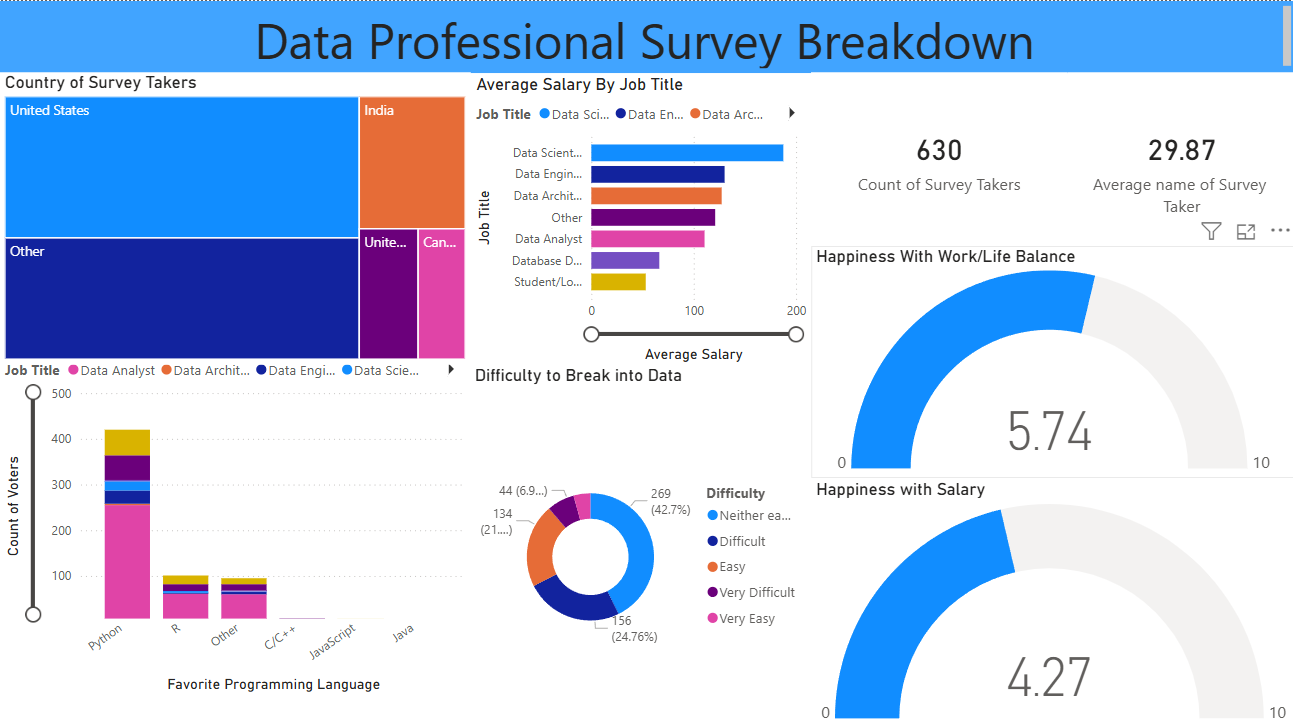

What the dashboard file says about the page in this screenshot:
{"tool":"powerbi","page":{"name":"Page 1","canvas":[1280,720],"ordinal":0},"visuals":[{"type":"textbox","box":[0,0,1280.3,71.4],"z":0},{"type":"card","fields":{"Values":["Count(Data Professional Survey.Unique ID)"]},"box":[801,70.9,253.1,171.2],"z":1000},{"type":"card","fields":{"Values":["Avg(Data Professional Survey.Q10 - Current Age)"]},"box":[1054.1,70.9,226.2,171.2],"z":2000},{"type":"barChart","title":"Average Salary By Job Title","fields":{"Category":["Data Professional Survey.Q1 - Which Title Best Fits your Current Role?.1"],"Y":["Avg(Data Professional Survey.Average Salary)"],"Series":["Data Professional Survey.Q1 - Which Title Best Fits your Current Role?.1"]},"box":[465,71,336,289],"z":3000},{"type":"columnChart","title":"Favorite Programming Language","fields":{"Category":["Data Professional Survey.Q5 - Favorite Programming Language.1"],"Y":["CountNonNull(Data Professional Survey.Unique ID)"],"Series":["Data Professional Survey.Q1 - Which Title Best Fits your Current Role?.1"]},"box":[0,325,465,363],"z":4000},{"type":"treemap","title":"Country of Survey Takers","fields":{"Group":["Data Professional Survey.Q11 - Which Country do you live in?.1"],"Values":["CountNonNull(Data Professional Survey.Q11 - Which Country do you live in?.1)"]},"box":[0,70.9,464.7,288.6],"z":5000},{"type":"gauge","title":"Happiness with Salary","fields":{"Y":["Avg(Data Professional Survey.Q6 - How Happy are you in your Current Position with the following? (Salary))"],"MinValue":["Min(Data Professional Survey.Q6 - How Happy are you in your Current Position with the following? (Salary))1"],"MaxValue":["Max(Data Professional Survey.Q6 - How Happy are you in your Current Position with the following? (Salary))2"]},"box":[801,472,479.4,248.2],"z":6000},{"type":"gauge","title":"Happiness With Work/Life Balance","fields":{"Y":["Avg(Data Professional Survey.Q6 - How Happy are you in your Current Position with the following? (Work/Life Balance))"],"MinValue":["Min(Data Professional Survey.Q6 - How Happy are you in your Current Position with the following? (Work/Life Balance))1"],"MaxValue":["Max(Data Professional Survey.Q6 - How Happy are you in your Current Position with the following? (Work/Life Balance))2"]},"box":[801,242.1,479.4,229.9],"z":7000},{"type":"donutChart","title":"Difficulty to Break into Data","fields":{"Category":["Data Professional Survey.Q7 - How difficult was it for you to break into Data?"],"Y":["CountNonNull(Data Professional Survey.Q7 - How difficult was it for you to break into Data?)"]},"box":[464.7,359.5,336.3,360.7],"z":8000}]}

Visuals, with their boxes in screenshot pixels (x1, y1, x2, y2), scaled from the page's 1280x720 canvas onto the 1293x725 screenshot:
textbox: [x1=0, y1=0, x2=1292, y2=72]
card - Count(Data Professional Survey.Unique ID): [x1=809, y1=71, x2=1065, y2=244]
card - Avg(Data Professional Survey.Q10 - Current Age): [x1=1065, y1=71, x2=1292, y2=244]
"Average Salary By Job Title" barChart: [x1=470, y1=71, x2=809, y2=362]
"Favorite Programming Language" columnChart: [x1=0, y1=327, x2=470, y2=693]
"Country of Survey Takers" treemap: [x1=0, y1=71, x2=469, y2=362]
"Happiness with Salary" gauge: [x1=809, y1=475, x2=1292, y2=724]
"Happiness With Work/Life Balance" gauge: [x1=809, y1=244, x2=1292, y2=475]
"Difficulty to Break into Data" donutChart: [x1=469, y1=362, x2=809, y2=724]
